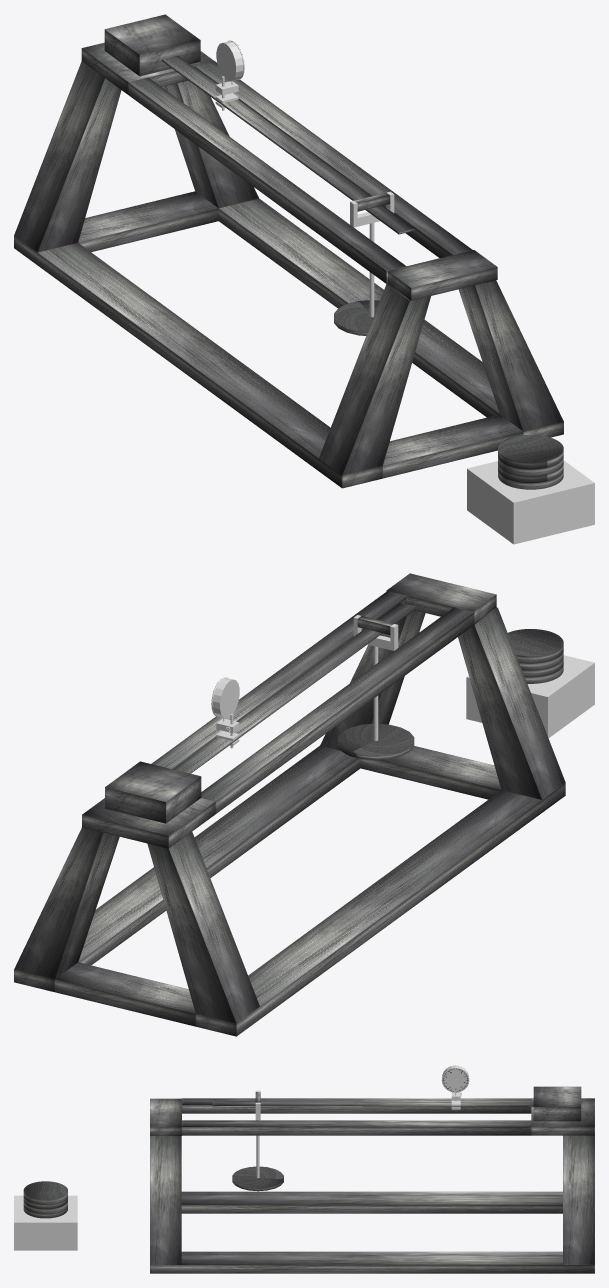
File: fixedSupport.fbx
3 renders of one model, top to bottom at view 1: azimuth 30°, elevation 25°; view 2: azimuth 150°, elevation 25°; view 3: azimuth 270°, elevation 25°, orthographic. The views are drawn at different scales.
Visible parts, largest first — view 1: base1, base2, middle2, middle4, top4, middle1, Box008, top3, base3, base4, Box001, middle3 (+6 smaller); view 2: base1, base2, middle4, middle2, top4, middle3, base3, top3, Box001, base4, Box002, Box008 (+6 smaller); view 3: base2, base1, top3, middle3, middle1, top4, Box008, Box002, Box001, top1, top005, Cylinder002 (+2 smaller).
Boxes of the visible parts, x1,y1,x2,y2 form: base1: (14, 236, 382, 488); base2: (218, 198, 563, 437); middle2: (319, 284, 430, 475); middle4: (14, 61, 121, 252); top4: (128, 77, 406, 283); middle1: (458, 280, 563, 431); Box008: (467, 460, 594, 544); top3: (195, 61, 472, 257); base3: (78, 191, 218, 252); base4: (383, 414, 523, 478); Box001: (104, 14, 200, 76); middle3: (162, 80, 258, 208); base1: (195, 783, 565, 1036); base2: (14, 746, 360, 991); middle4: (147, 832, 259, 1023); middle2: (458, 607, 565, 799); top4: (201, 607, 474, 813); middle3: (14, 827, 119, 979); base3: (54, 962, 195, 1026); top3: (151, 591, 407, 769); Box001: (105, 761, 201, 823); base4: (360, 746, 501, 799); Box002: (173, 603, 416, 773); Box008: (466, 655, 594, 738); base2: (150, 1251, 594, 1273); base1: (181, 1191, 562, 1213); top3: (181, 1120, 531, 1135); middle3: (563, 1135, 594, 1264); middle1: (150, 1136, 181, 1264); top4: (181, 1098, 531, 1113); Box008: (14, 1195, 77, 1250); Box002: (212, 1100, 533, 1107); Box001: (533, 1086, 581, 1121); top1: (531, 1098, 594, 1135); top005: (150, 1098, 181, 1135); Cylinder002: (232, 1166, 283, 1191).
Size of the model in its own units: 54.62 by 59.55 by 183.
